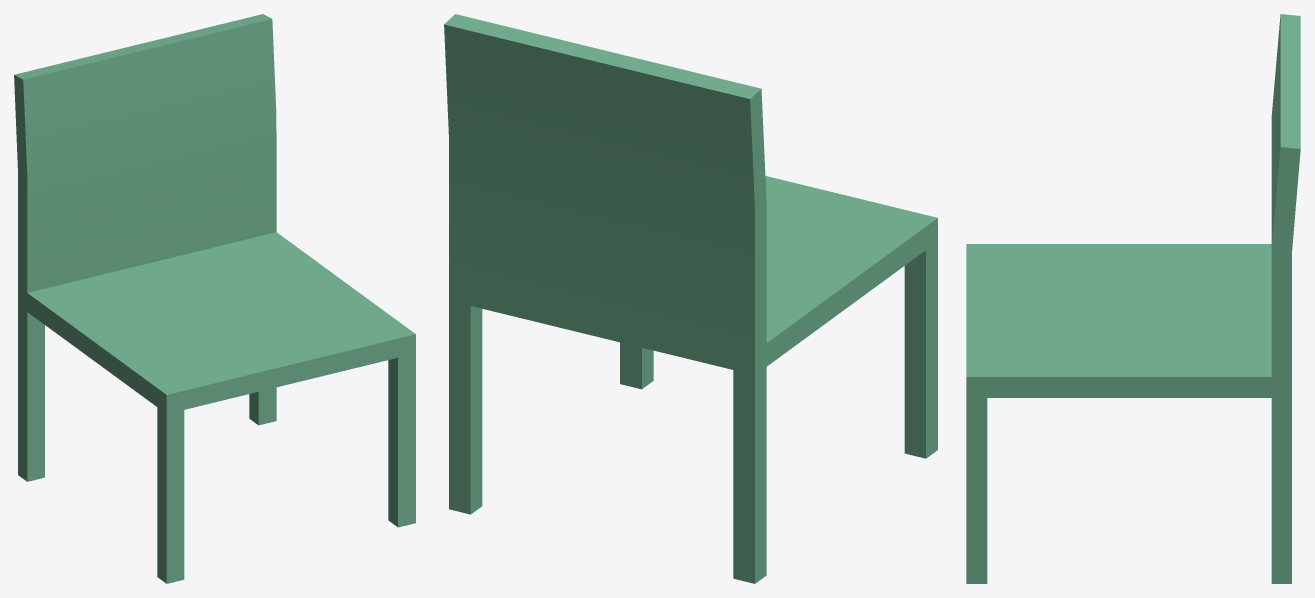
Rendered from Chair_large_700_725_1073.fbx.
The picture shows the model from 3 angles, left to right: view 1: azimuth 30°, elevation 25°; view 2: azimuth 150°, elevation 25°; view 3: azimuth 270°, elevation 25°; orthographic projection. The views are drawn at different scales.
Parts seen in each view (by area): view 1: Chair_large_700_725_1073; view 2: Chair_large_700_725_1073; view 3: Chair_large_700_725_1073.
Boxes of the visible parts, <box> form: Chair_large_700_725_1073: <box>14,14,415,583</box>; Chair_large_700_725_1073: <box>444,14,937,583</box>; Chair_large_700_725_1073: <box>966,14,1300,583</box>.
Size of the model in its own units: 70.08 by 107 by 74.42.
